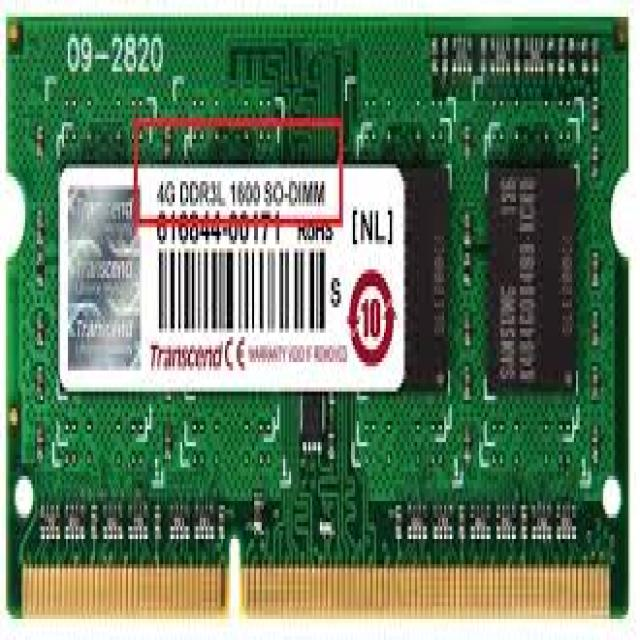Ram: (7, 25, 640, 636)
